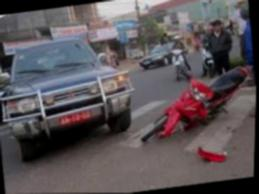License_Plate: (58, 110, 94, 130)
